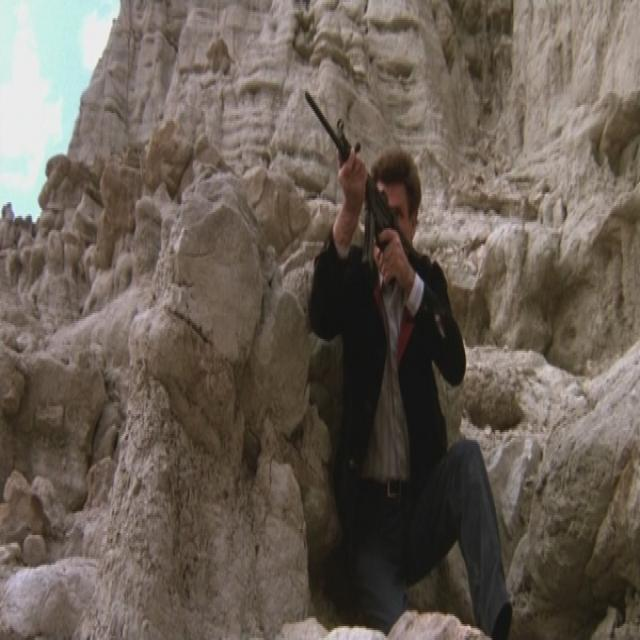rifle: (302, 86, 432, 286)
